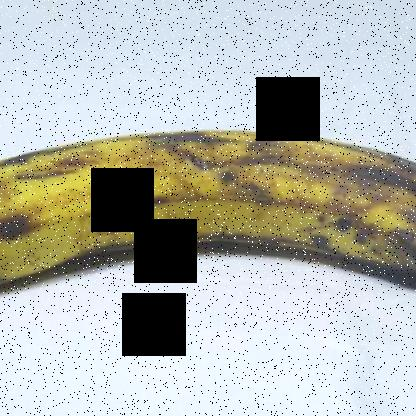overripe: (0, 111, 415, 324)
